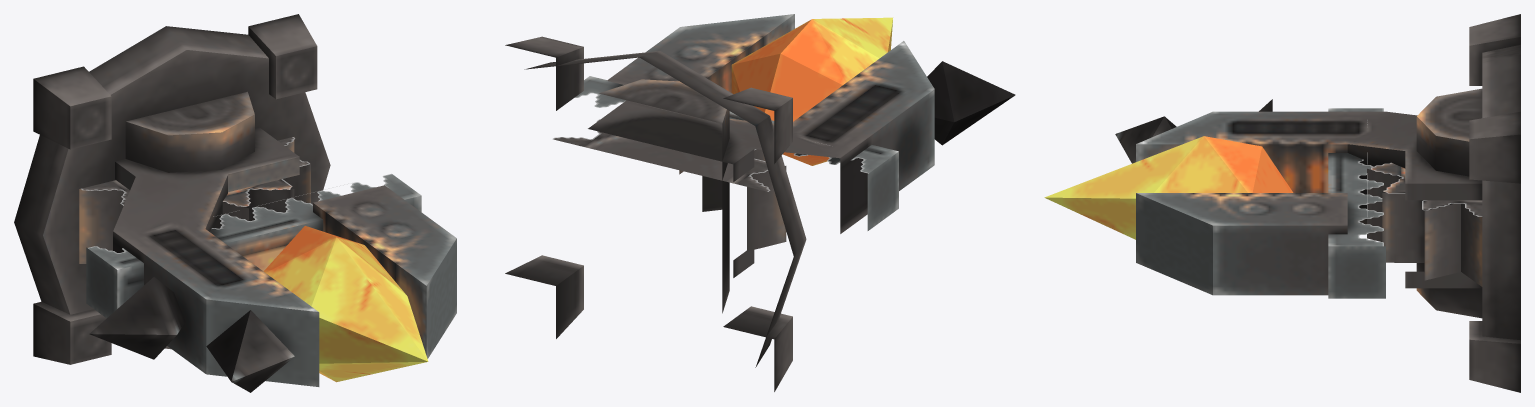
3 renders of one model, left to right at view 1: azimuth 30°, elevation 25°; view 2: azimuth 150°, elevation 25°; view 3: azimuth 270°, elevation 25°, orthographic. The views are drawn at different scales.
Parts seen in each view (by area): view 1: healing_totem.model-MeshSets[grem_totem_base].Mesh[0], healing_totem.model-MeshSets[chunk_left].Mesh[0], healing_totem.model-MeshSets[chunk_right].Mesh[0], healing_totem.model-MeshSets[crystal].Mesh[0], healing_totem.model-MeshSets[spikes].Mesh[0]; view 2: healing_totem.model-MeshSets[grem_totem_base].Mesh[0], healing_totem.model-MeshSets[chunk_left].Mesh[0], healing_totem.model-MeshSets[crystal].Mesh[0], healing_totem.model-MeshSets[chunk_right].Mesh[0], healing_totem.model-MeshSets[spikes].Mesh[0]; view 3: healing_totem.model-MeshSets[grem_totem_base].Mesh[0], healing_totem.model-MeshSets[chunk_right].Mesh[0], healing_totem.model-MeshSets[chunk_left].Mesh[0], healing_totem.model-MeshSets[crystal].Mesh[0], healing_totem.model-MeshSets[spikes].Mesh[0].
Part boxes in pixels (x1,y1,x2,y2): healing_totem.model-MeshSets[grem_totem_base].Mesh[0]: [14, 14, 355, 364]; healing_totem.model-MeshSets[chunk_left].Mesh[0]: [113, 126, 319, 386]; healing_totem.model-MeshSets[chunk_right].Mesh[0]: [86, 173, 456, 358]; healing_totem.model-MeshSets[crystal].Mesh[0]: [264, 226, 428, 382]; healing_totem.model-MeshSets[spikes].Mesh[0]: [89, 277, 294, 392]; healing_totem.model-MeshSets[grem_totem_base].Mesh[0]: [505, 36, 829, 391]; healing_totem.model-MeshSets[chunk_left].Mesh[0]: [588, 41, 934, 277]; healing_totem.model-MeshSets[crystal].Mesh[0]: [731, 17, 892, 165]; healing_totem.model-MeshSets[chunk_right].Mesh[0]: [574, 14, 898, 230]; healing_totem.model-MeshSets[spikes].Mesh[0]: [927, 61, 1015, 145]; healing_totem.model-MeshSets[grem_totem_base].Mesh[0]: [1367, 14, 1520, 392]; healing_totem.model-MeshSets[chunk_right].Mesh[0]: [1136, 108, 1385, 298]; healing_totem.model-MeshSets[chunk_left].Mesh[0]: [1136, 111, 1482, 288]; healing_totem.model-MeshSets[crystal].Mesh[0]: [1044, 136, 1293, 239]; healing_totem.model-MeshSets[spikes].Mesh[0]: [1115, 99, 1272, 163].
Size of the model in its own units: 1.27 by 1.06 by 1.55.
1 material, 1 textured.
